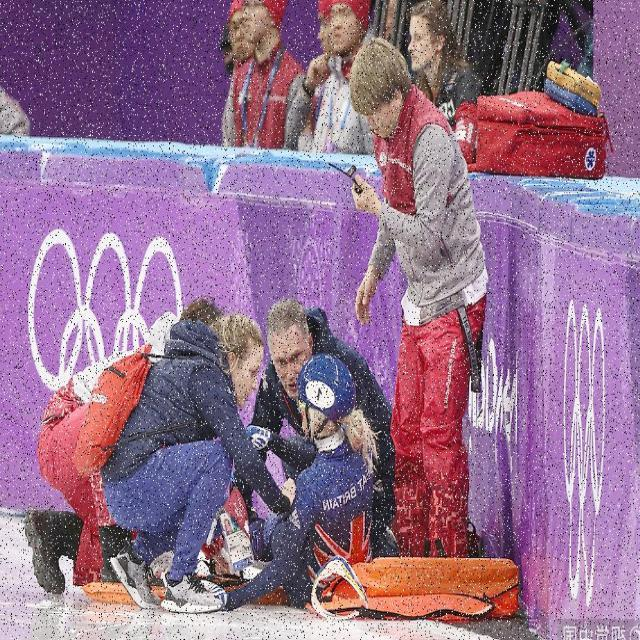fall: (246, 367, 379, 607)
